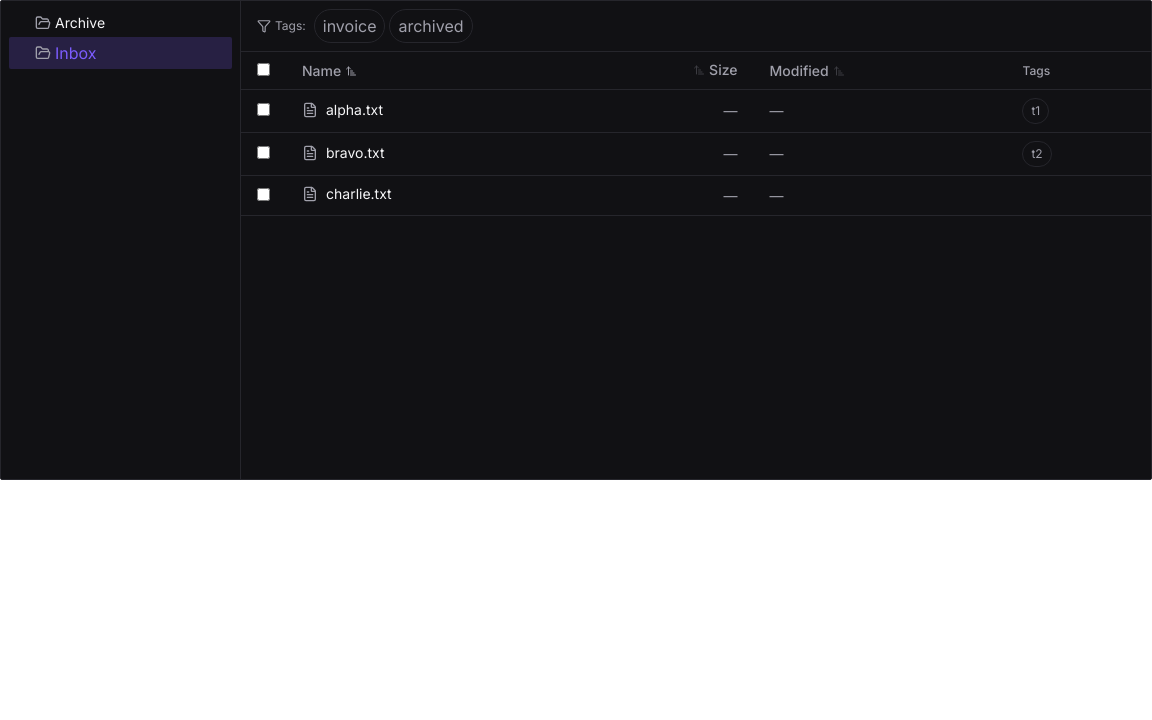
FileBrowser — bulk selection + toolbar › Delete key opens the delete-confirm dialog
The width and height of the screenshot is (1152, 720).
expect the row with test id "file-row-f1" is shown: met, box x1=241 y1=90 x2=1151 y2=132
Click the checkbox with test id "file-row-checkbox-f1". click: (264, 110)
box: x1=257 y1=103 x2=270 y2=116
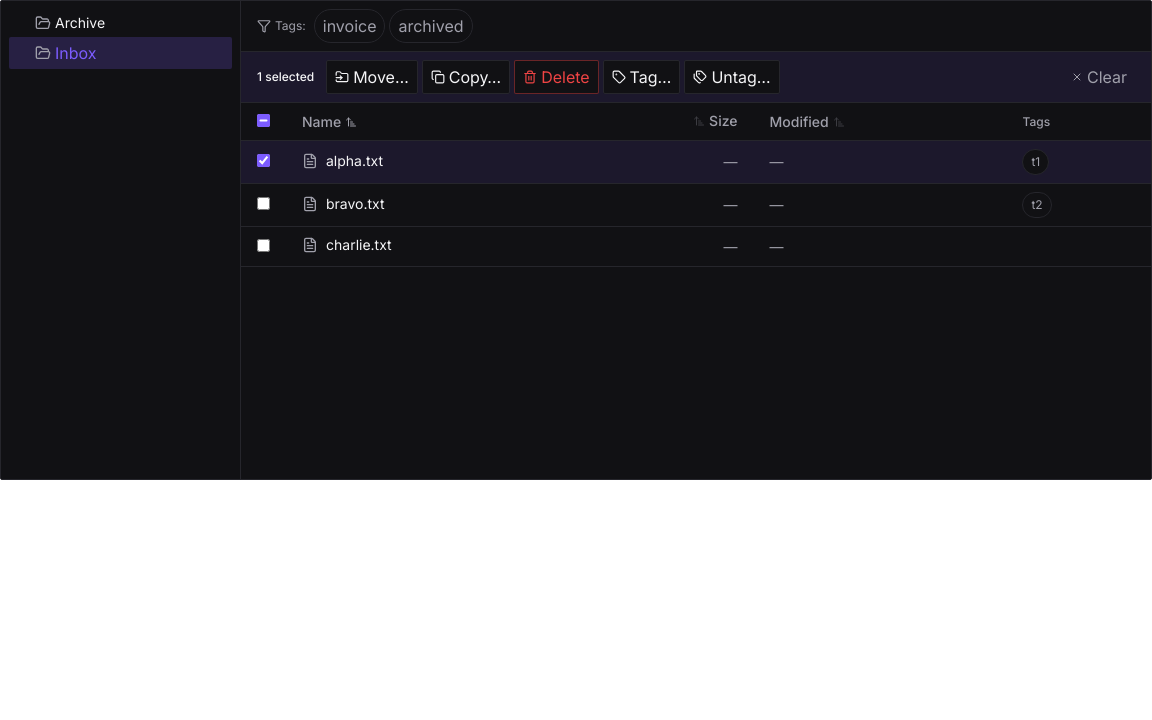
expect the element with test id "file-browser" has attribute data-selection-count="1": met
Press Delete
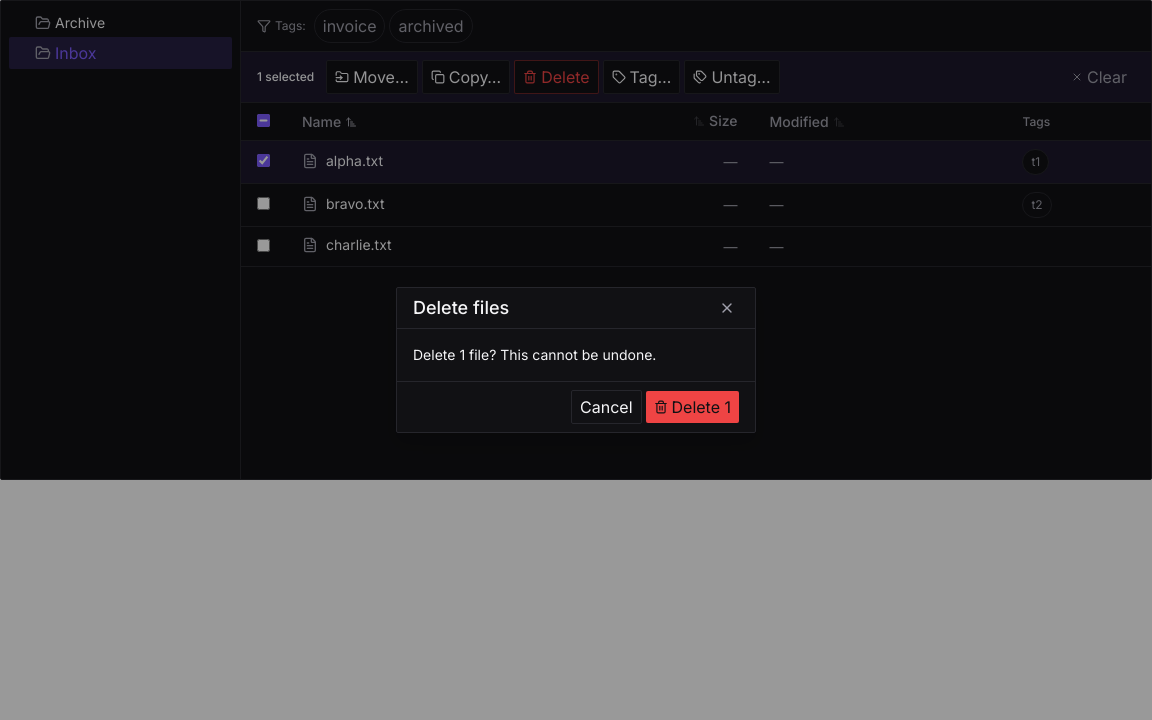
expect the dialog with test id "delete-confirm-dialog" is shown: met, box x1=396 y1=287 x2=756 y2=433
expect the text with test id "delete-confirm-copy" shows "Delete 1 file": met, box x1=413 y1=346 x2=656 y2=363
